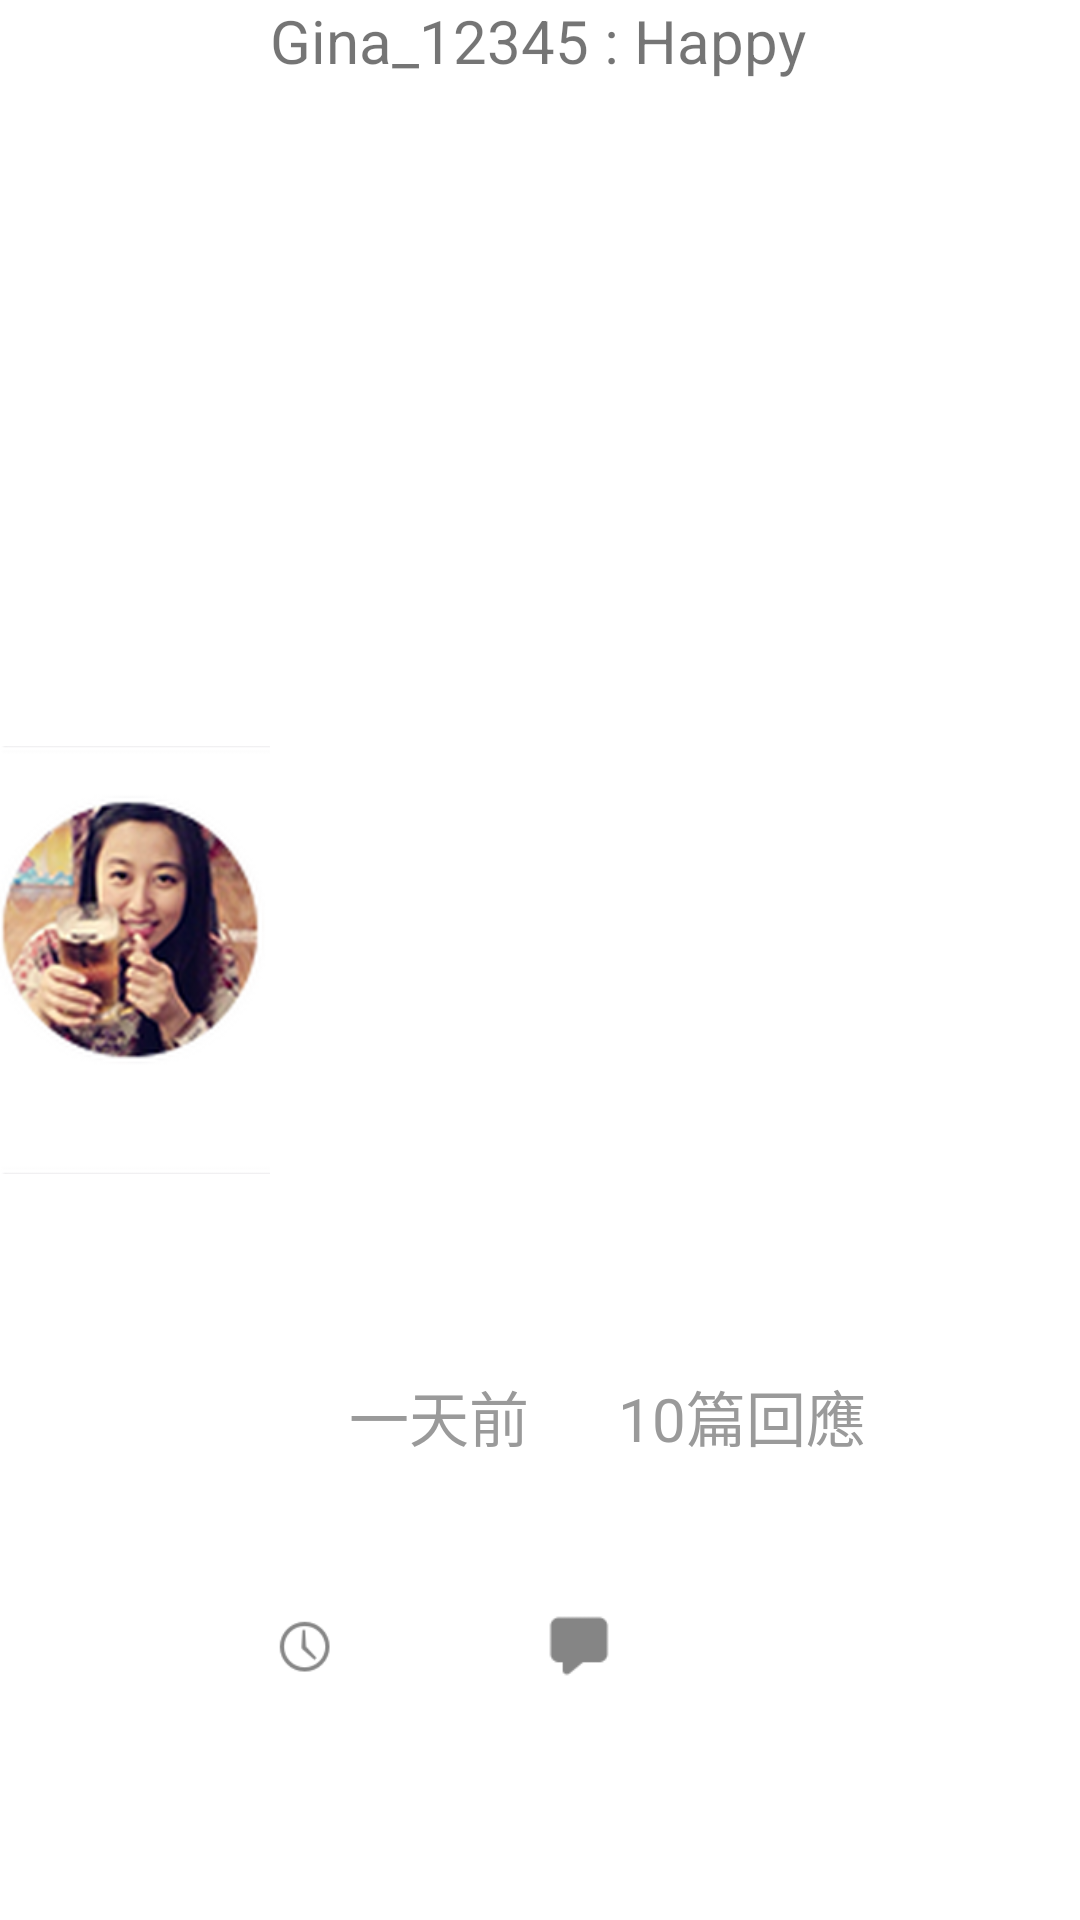

Locate icon controls on the screen. Image size 1080w x 1920h, boxes as [x1, y1, x2, y2].
create time: [280, 1622, 330, 1672]
owner: [2, 801, 259, 1058]
response: [550, 1617, 608, 1675]
